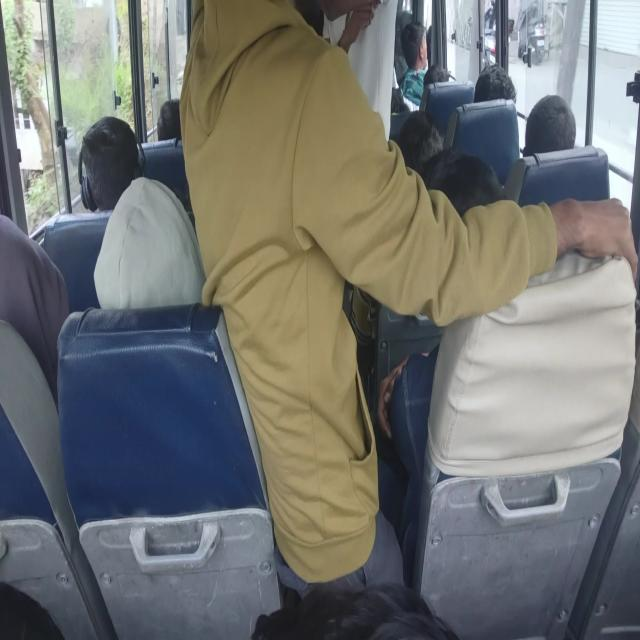person: (175, 0, 375, 468), (253, 560, 475, 640), (102, 185, 202, 343), (329, 0, 396, 128), (0, 242, 52, 383), (436, 162, 508, 250), (0, 583, 91, 640), (78, 125, 133, 200), (526, 103, 581, 147), (154, 96, 194, 153), (398, 121, 434, 179), (399, 13, 430, 78), (476, 70, 506, 112), (428, 57, 452, 90)
